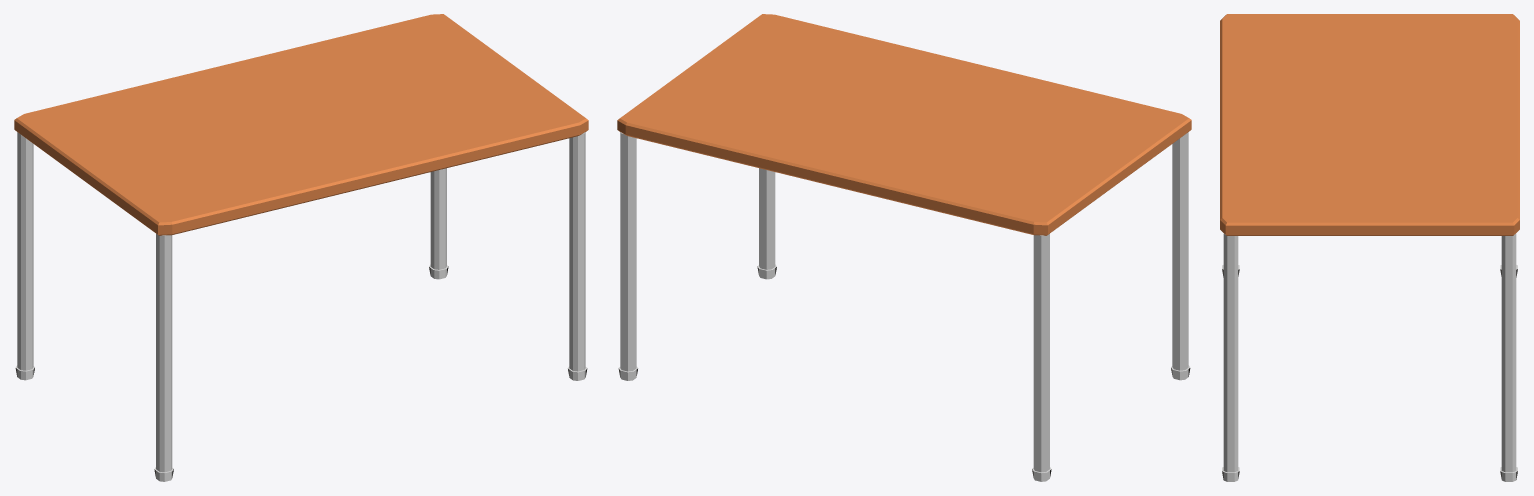
The model's file is Styol.fbx.
3 views of the same model, side by side, from view 1: azimuth 30°, elevation 25°; view 2: azimuth 150°, elevation 25°; view 3: azimuth 270°, elevation 25° (orthographic).
Parts seen in each view (by area): view 1: Cube.001; view 2: Cube.001; view 3: Cube.001.
Part boxes in pixels (x1,y1,x2,y2): Cube.001: (14,14,588,481); Cube.001: (617,14,1191,481); Cube.001: (1220,14,1519,481).
Size of the model in its own units: 665 by 382 by 400.
